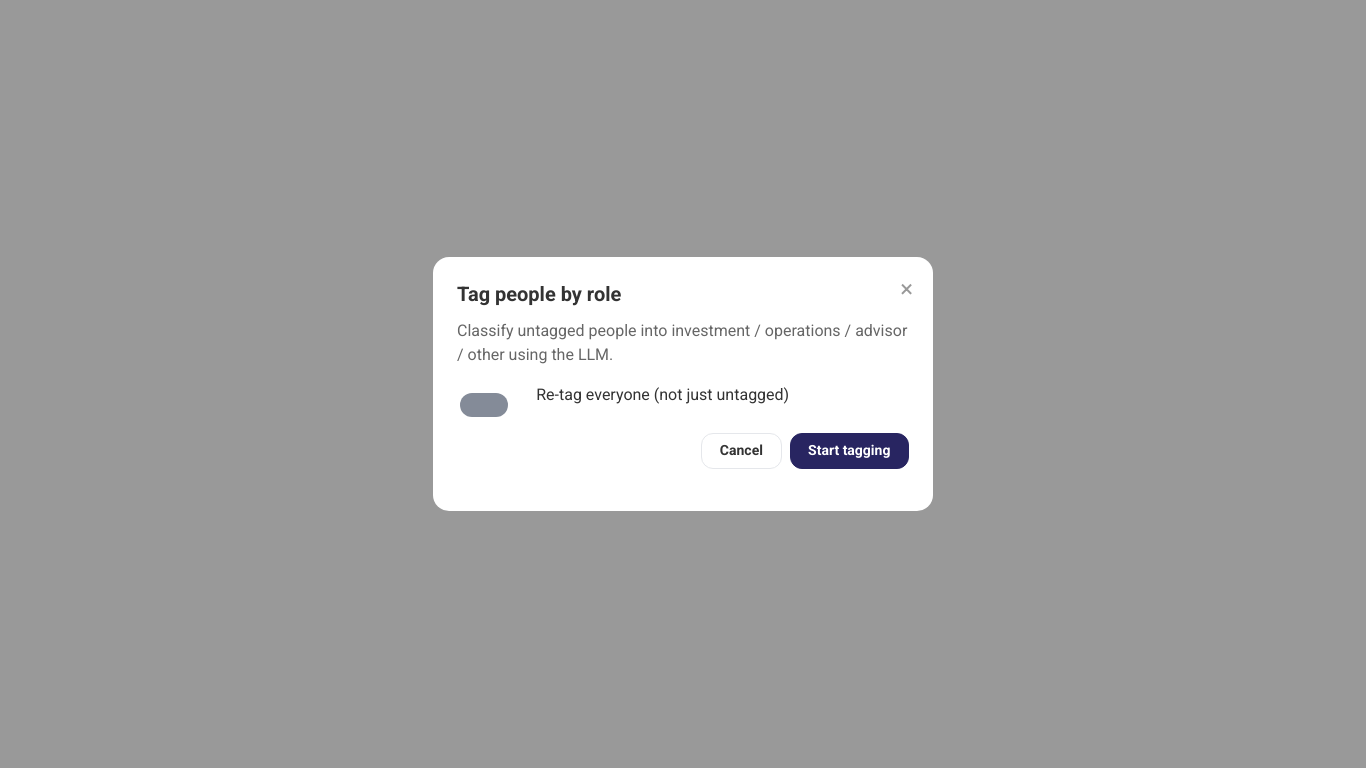
PeopleBatchModal › surfaces a 409 already-running error without opening a stream
The width and height of the screenshot is (1366, 768).
What coordinates should you click on to do the following:
click the button "Start tagging"
I would click on:
 (849, 451)
Its box is top-left (790, 433), bottom-right (909, 469).
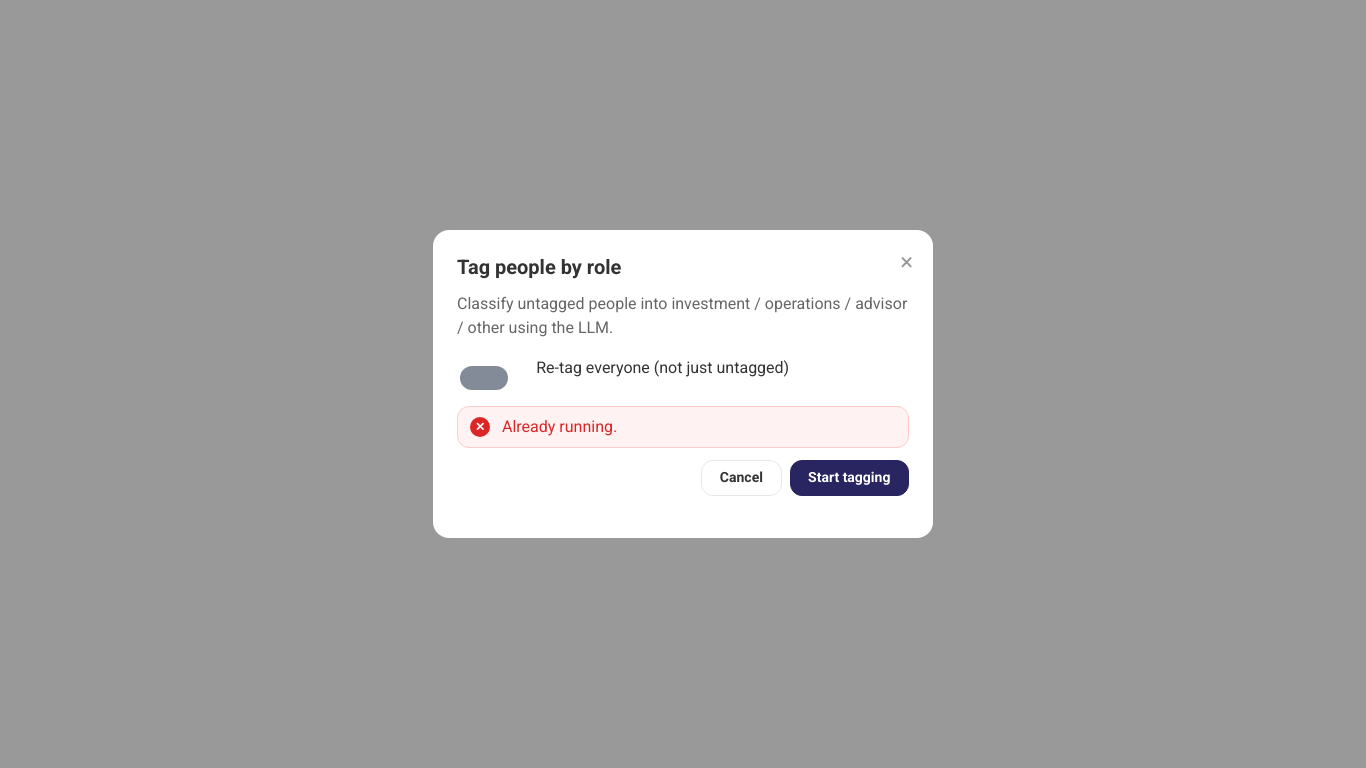
Expected: the text "Already running." is shown, top-left (457, 406), bottom-right (909, 448)
